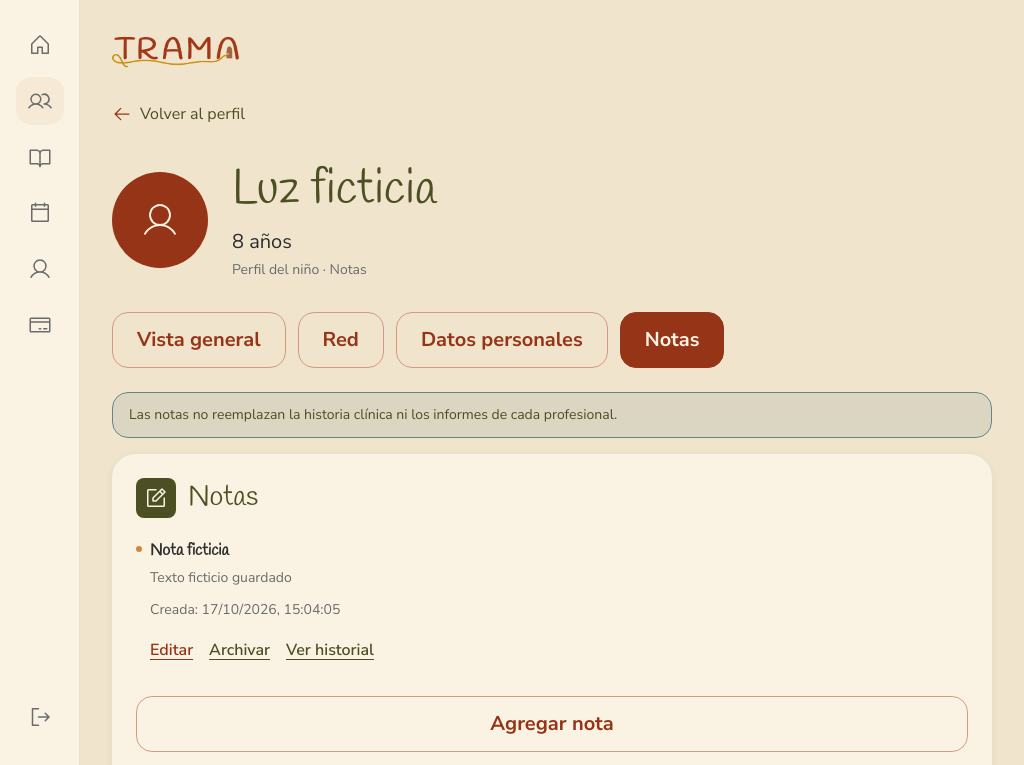
Test: Notas con fecha y hora › edita una nota propia conservando fecha original y mostrando la última edición
Click the button with aria-label "Editar nota: Nota ficticia".
click(172, 650)  # box [150,628,193,672]
(page scrolled)
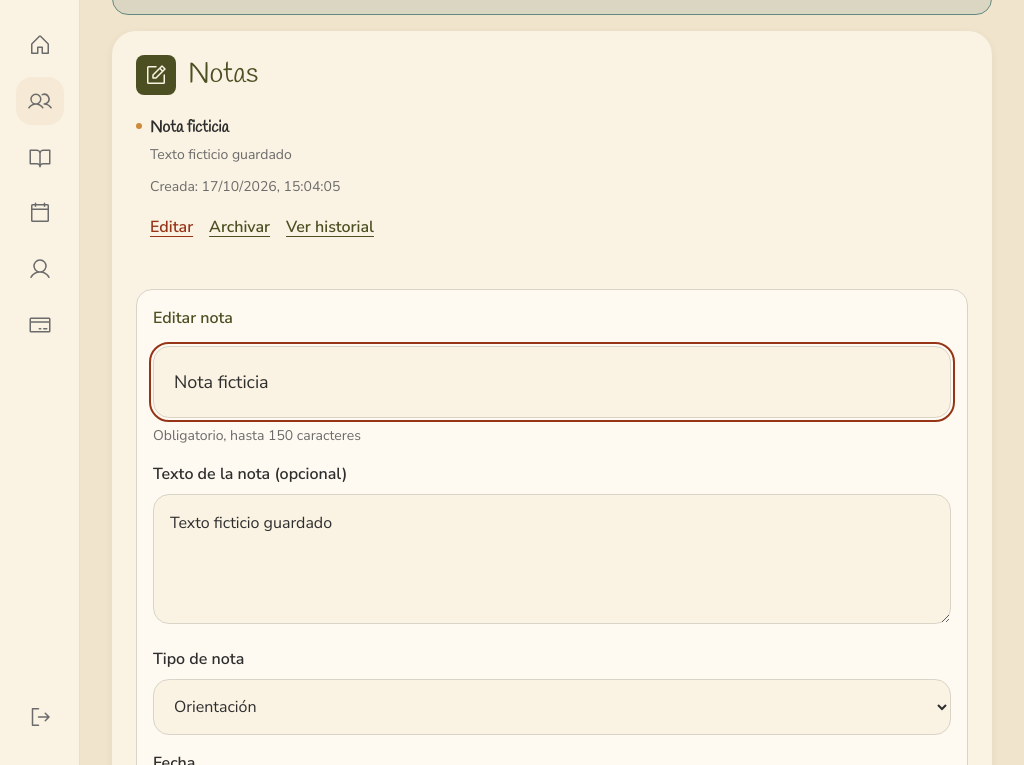
Replace the text in the text box labelled "Texto de la nota (opcional)" with "Texto ficticio editado" at (552, 559), box [153,494,951,624]
(page scrolled)
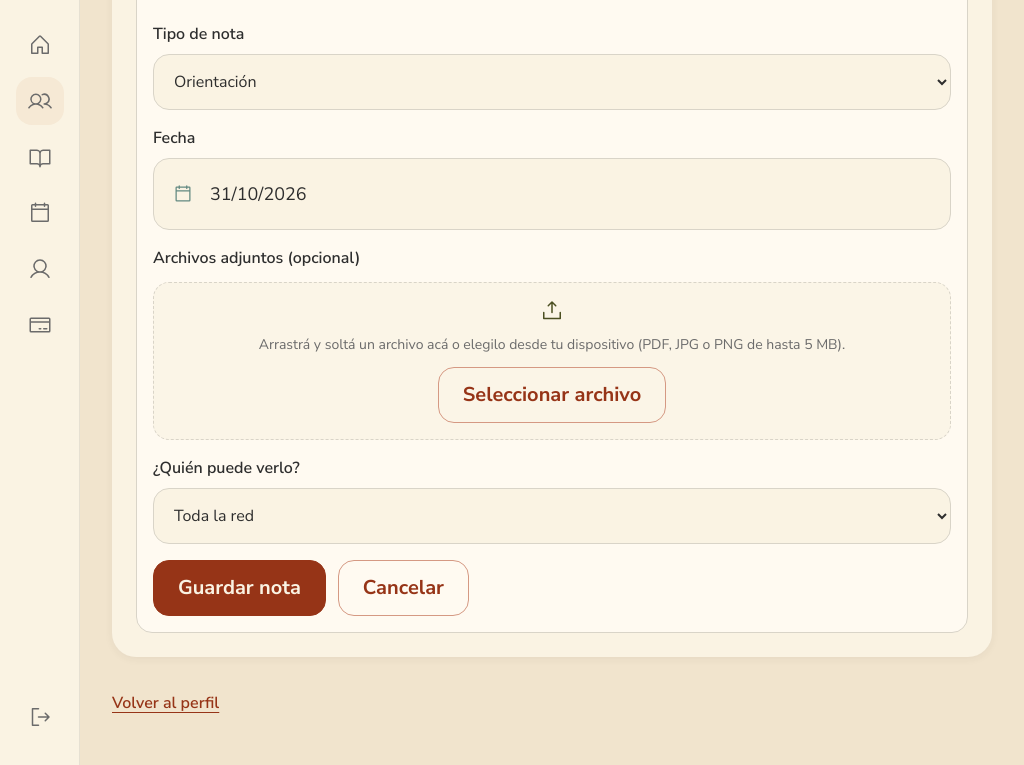
Click the button "Guardar nota".
click(239, 588)  # box [153,560,326,616]
(page scrolled)
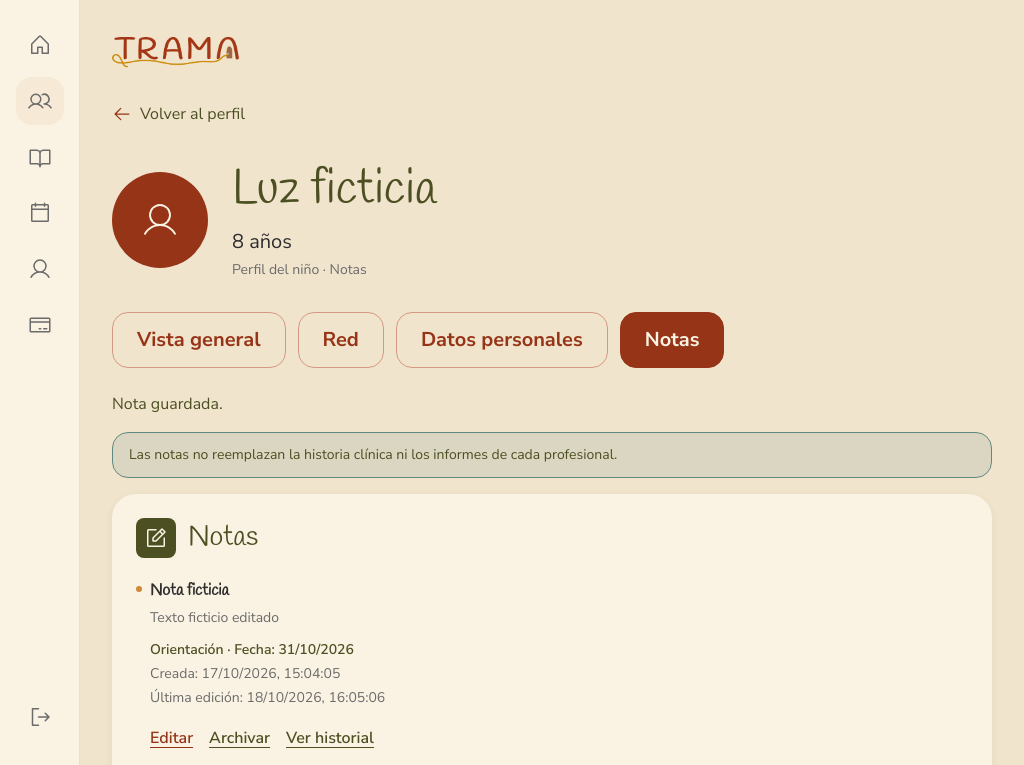
Result: the text "Texto ficticio editado" is shown at [150,608,279,627]
